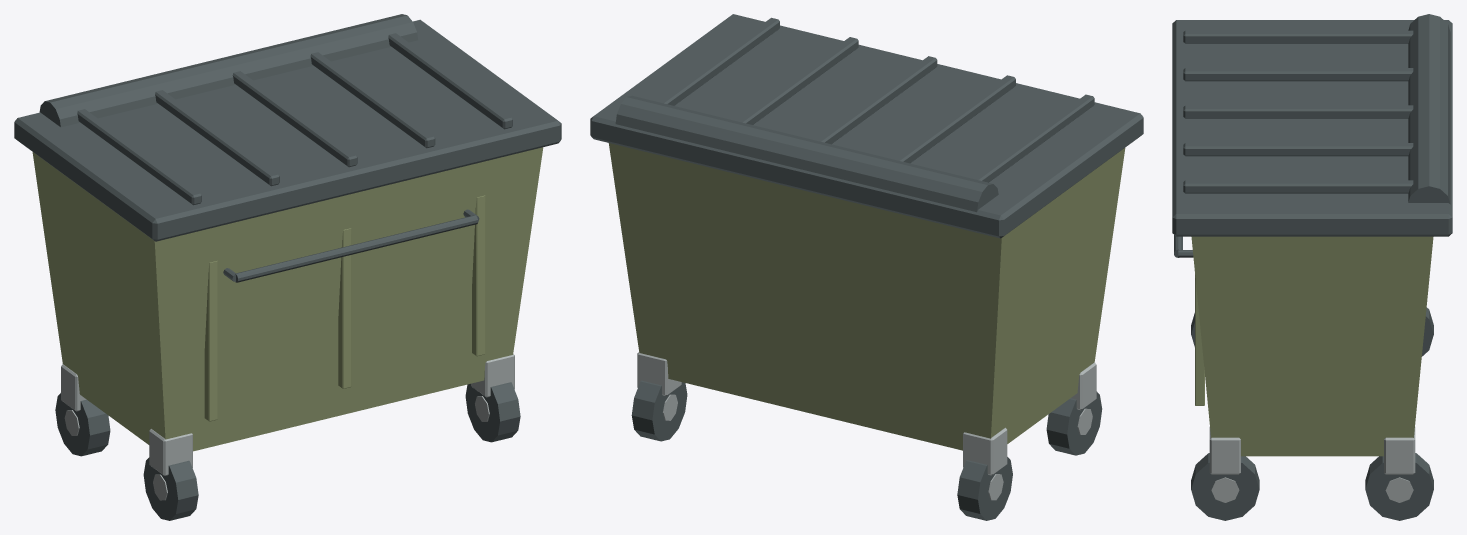
Rendered from wheeled_dumpster.fbx.
The picture shows the model from 3 angles, left to right: view 1: azimuth 30°, elevation 25°; view 2: azimuth 150°, elevation 25°; view 3: azimuth 270°, elevation 25°; orthographic projection. The views are drawn at different scales.
Parts seen in each view (by area): view 1: wheeled_dumpster; view 2: wheeled_dumpster; view 3: wheeled_dumpster.
Boxes of the visible parts, x1,y1,x2,y2 form: wheeled_dumpster: (14, 14, 561, 520); wheeled_dumpster: (590, 14, 1143, 520); wheeled_dumpster: (1172, 14, 1452, 520).
Size of the model in its own units: 1.5 by 1.2 by 0.9.
